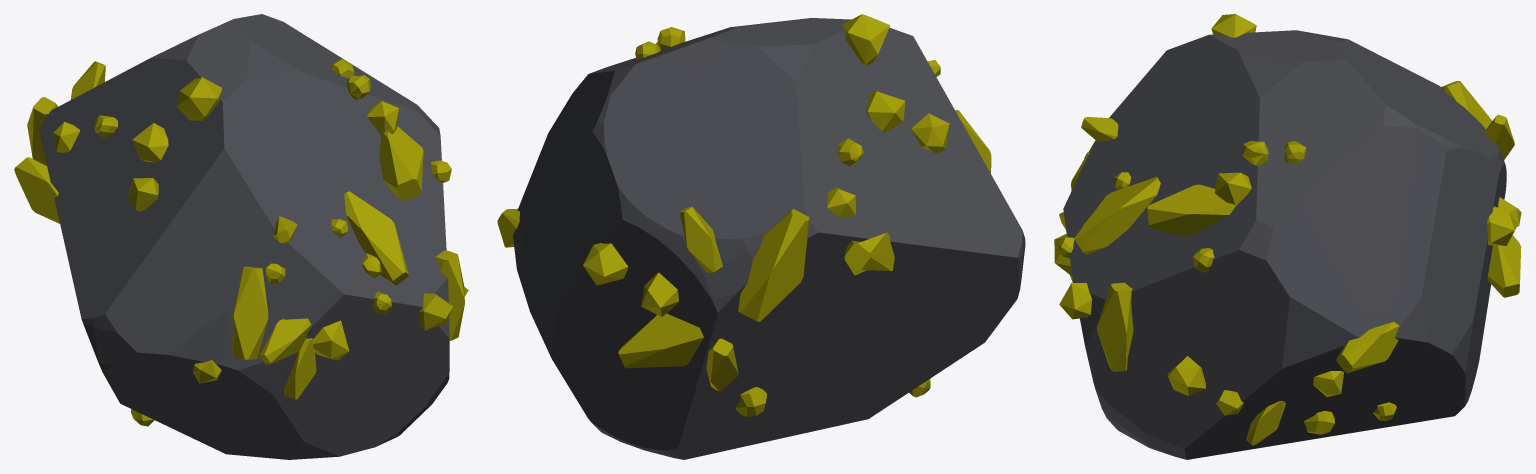
File: OreDepositImport.fbx
3 views of the same model, side by side, from view 1: azimuth 30°, elevation 25°; view 2: azimuth 150°, elevation 25°; view 3: azimuth 270°, elevation 25° (orthographic). The views are drawn at different scales.
Parts seen in each view (by area): view 1: Gold_ore(complited)_Rock_0, Gold_ore(complited)_Gold_ore_0; view 2: Gold_ore(complited)_Rock_0, Gold_ore(complited)_Gold_ore_0; view 3: Gold_ore(complited)_Rock_0, Gold_ore(complited)_Gold_ore_0.
Part boxes in pixels (<box>): Gold_ore(complited)_Rock_0: <box>39,14,449,459</box>; Gold_ore(complited)_Gold_ore_0: <box>14,59,468,426</box>; Gold_ore(complited)_Rock_0: <box>513,18,1025,459</box>; Gold_ore(complited)_Gold_ore_0: <box>497,14,991,416</box>; Gold_ore(complited)_Rock_0: <box>1063,30,1506,459</box>; Gold_ore(complited)_Gold_ore_0: <box>1054,14,1521,445</box>.
Size of the model in its own units: 196 by 160 by 193.
